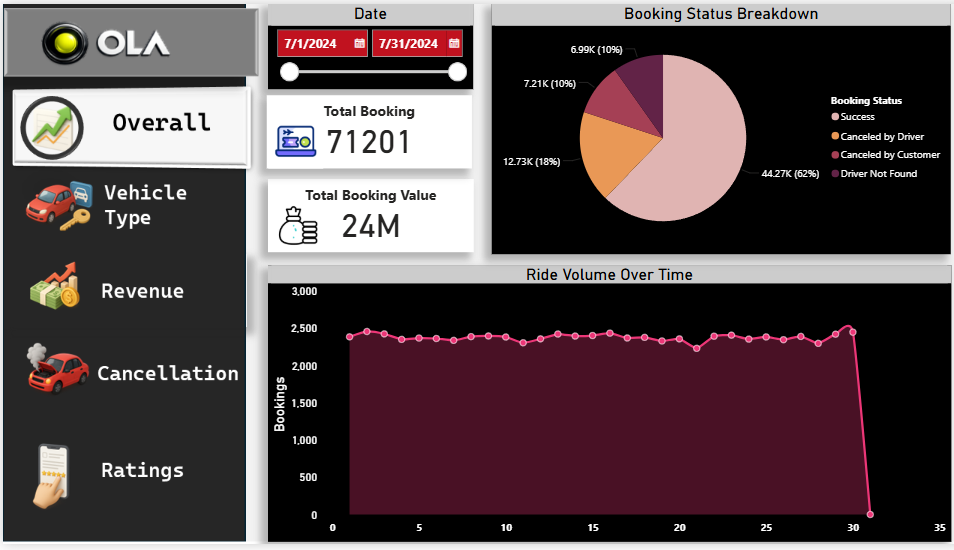

The dashboard page shown, as its layout file describes it:
{"tool":"powerbi","page":{"name":"Overall","canvas":[1280,720],"ordinal":0},"visuals":[{"type":"actionButton","box":[0,225,325.2,97.4],"z":0},{"type":"actionButton","box":[0,333.4,325.2,97.4],"z":1000},{"type":"actionButton","box":[0,444.6,325.2,97.4],"z":2000},{"type":"actionButton","box":[0,566.7,325.2,116.6],"z":3000},{"type":"lineChart","title":"Ride Volume Over Time","fields":{"Y":["CountNonNull(Data.Booking_ID)"],"Category":["Data.Date.Variation.Date Hierarchy.Day"]},"box":[352.7,348.6,910.8,368.9],"z":4000},{"type":"pieChart","title":"Booking Status Breakdown","fields":{"Category":["Data.Booking_Status"],"Y":["CountNonNull(Data.Booking_ID)"]},"box":[651.4,0,612.2,333.8],"z":5000},{"type":"slicer","title":"Date","fields":{"Values":["Data.Date"]},"box":[352.8,0,273.6,113.9],"z":6000},{"type":"card","title":"Total Booking","fields":{"Values":["Count(Data.Booking_ID)"]},"box":[351.9,122.5,273.6,97.2],"z":7000,"group":"g1"},{"type":"card","title":"Total Booking Value","fields":{"Values":["Sum(Data.Booking_Value)"]},"box":[352.7,233.8,274.3,97.3],"z":7000},{"type":"image","box":[358.6,263.8,70.4,63.8],"z":8000},{"type":"group","id":"g1","title":"Group 1","box":[351.9,122.5,273.6,97.8],"z":9000},{"type":"image","box":[352,147.5,77.1,72.9],"z":9000,"group":"g1"}]}

Visuals, with their boxes in screenshot pixels (x1, y1, x2, y2), scaled from the page's 1280x720 canvas onto the 954x550 screenshot:
actionButton: {"x1": 0, "y1": 172, "x2": 242, "y2": 246}
actionButton: {"x1": 0, "y1": 255, "x2": 242, "y2": 329}
actionButton: {"x1": 0, "y1": 340, "x2": 242, "y2": 414}
actionButton: {"x1": 0, "y1": 433, "x2": 242, "y2": 522}
"Ride Volume Over Time" lineChart: {"x1": 263, "y1": 266, "x2": 942, "y2": 548}
"Booking Status Breakdown" pieChart: {"x1": 485, "y1": 0, "x2": 942, "y2": 255}
"Date" slicer: {"x1": 263, "y1": 0, "x2": 467, "y2": 87}
"Total Booking" card: {"x1": 262, "y1": 94, "x2": 466, "y2": 168}
"Total Booking Value" card: {"x1": 263, "y1": 179, "x2": 467, "y2": 253}
image: {"x1": 267, "y1": 202, "x2": 320, "y2": 250}
"Group 1" group: {"x1": 262, "y1": 94, "x2": 466, "y2": 168}
image: {"x1": 262, "y1": 113, "x2": 320, "y2": 168}
